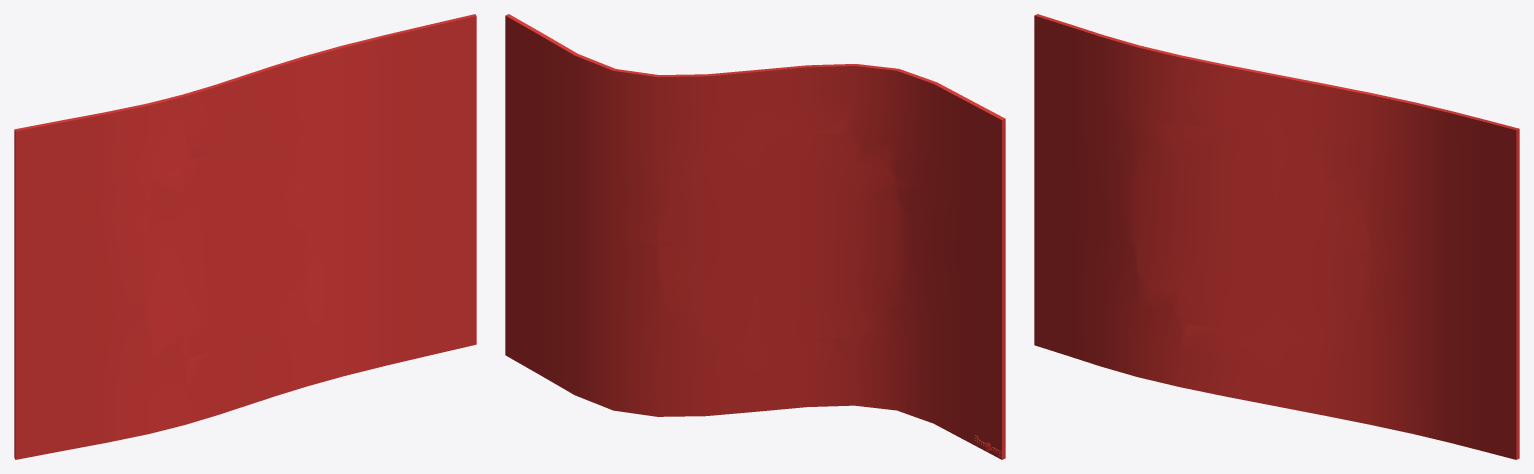
The model's file is flag_bangladesh.gltf.
The picture shows the model from 3 angles, left to right: view 1: azimuth 30°, elevation 25°; view 2: azimuth 150°, elevation 25°; view 3: azimuth 330°, elevation 25°; orthographic projection. The views are drawn at different scales.
Parts seen in each view (by area): view 1: Plane.389; view 2: Plane.389; view 3: Plane.389.
Part boxes in pixels (x1,y1,x2,y2): Plane.389: (14,14,476,459); Plane.389: (505,14,1005,459); Plane.389: (1034,14,1519,459).
Bounding box in the file's own units: 2.18 × 1.58 × 0.3373.
1 material, 1 textured.
